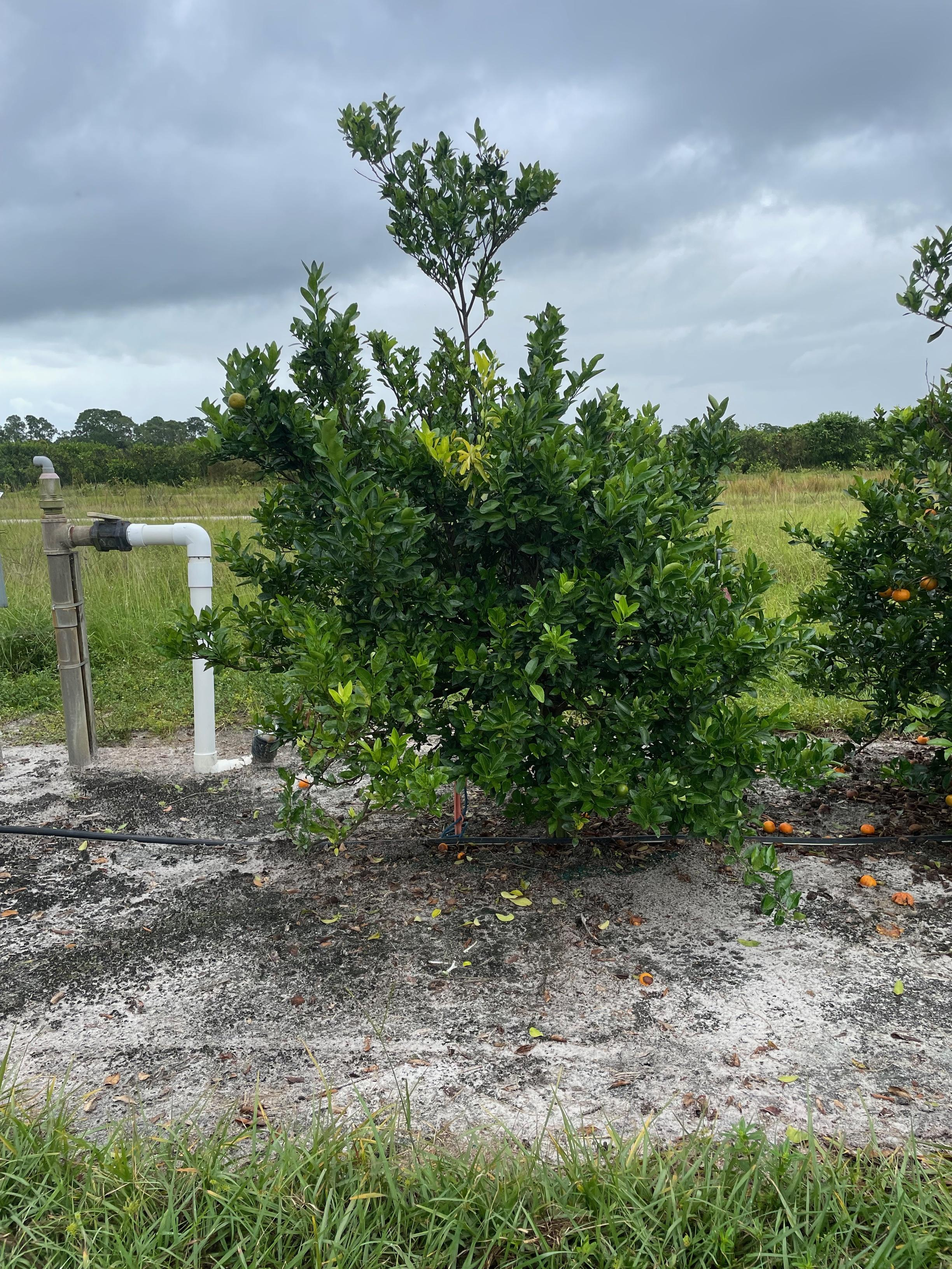fruit_on_ground: (226, 390, 248, 412), (918, 572, 940, 592), (890, 585, 912, 604), (876, 582, 895, 600), (922, 506, 939, 522), (614, 782, 629, 798)
fruit_on_tree: (889, 890, 916, 907), (637, 970, 655, 988), (858, 873, 877, 888), (762, 818, 779, 833), (778, 820, 794, 835), (858, 821, 875, 835), (296, 776, 312, 790), (916, 732, 931, 745), (832, 762, 848, 774), (437, 840, 450, 853), (943, 791, 952, 808), (845, 789, 858, 800)
